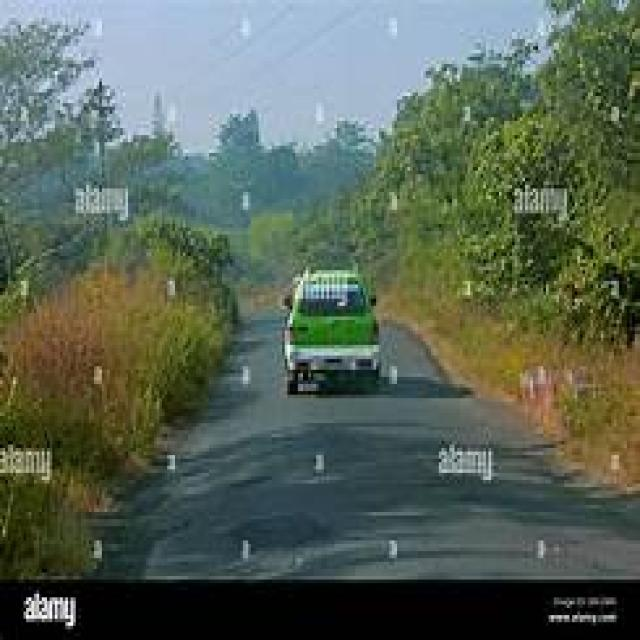Car: (285, 271, 378, 372)
